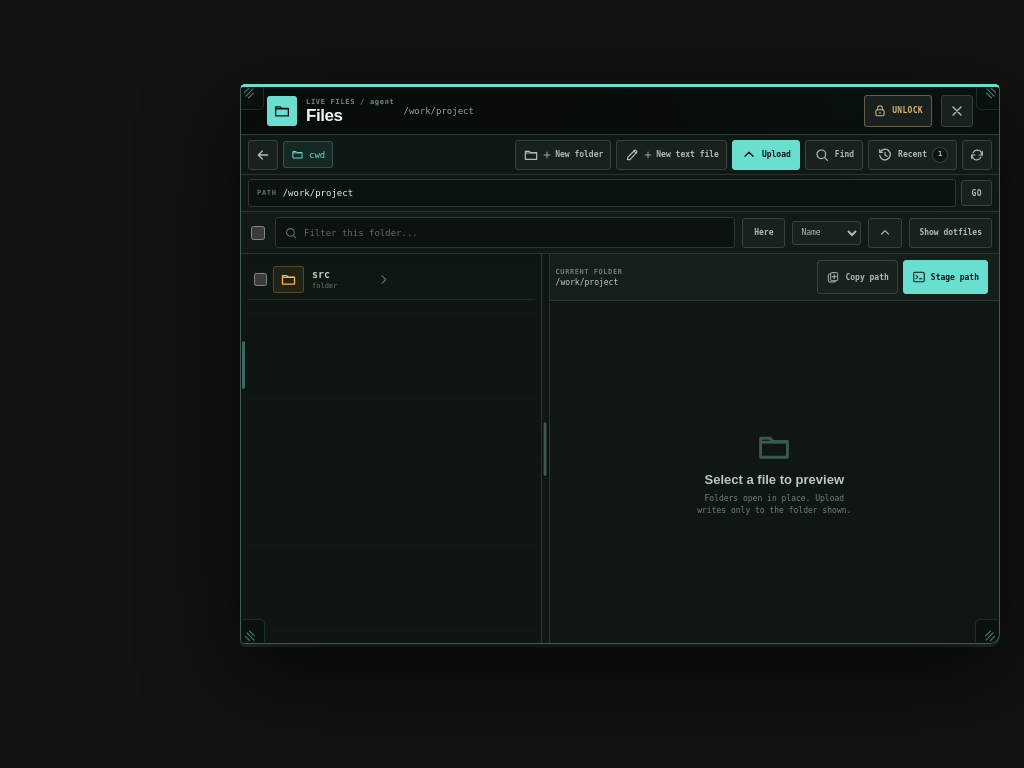
Scenario: SessionFilesPanel › filters descendants when nested folder search is enabled
The image size is (1024, 768).
Click the button "Folder src": [331, 280] box [273,266,390,293]
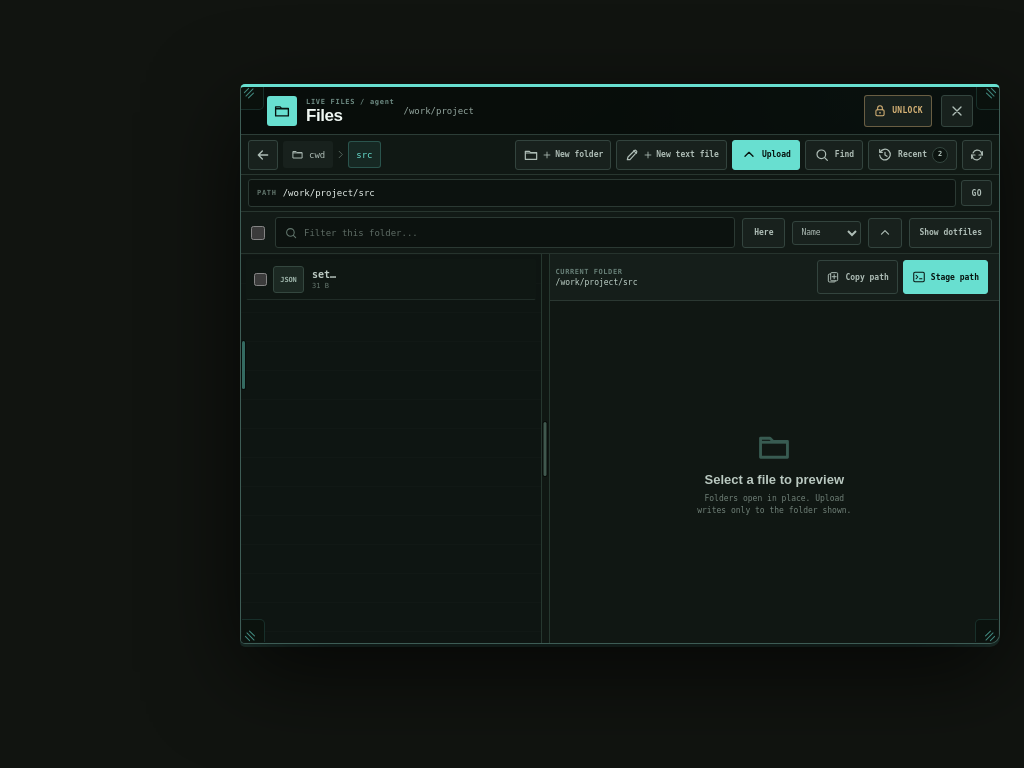
Click the button with aria-label "Search nested folders": [764, 232] box [742,218,785,248]
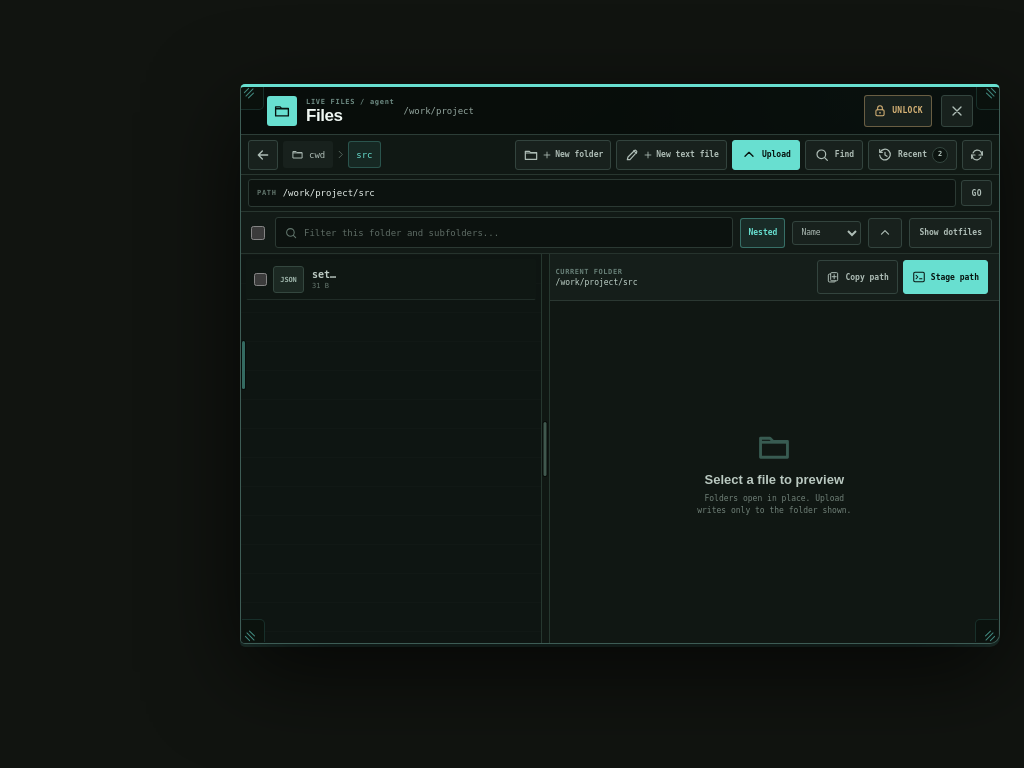
Check: the button with aria-label "Search nested folders" is pressed, box [740,218,785,248]
In the search field named "Filter files": [514, 232] box [304,218,724,247], type "settings"
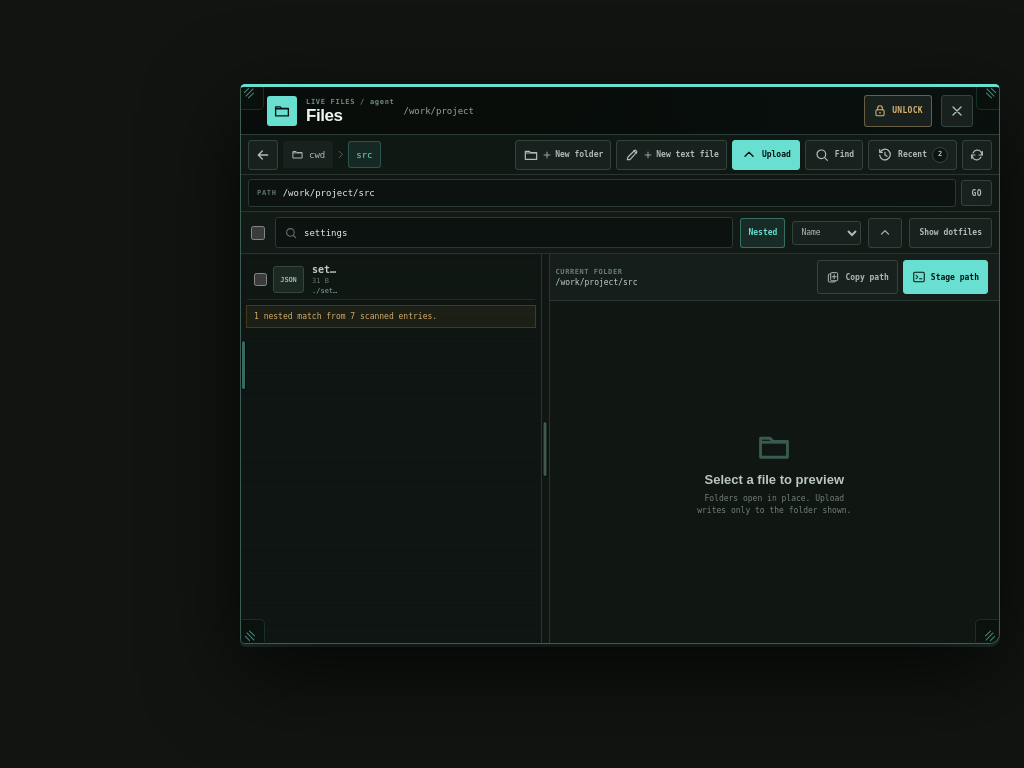
Check: the text "./settings.json" is shown, box [312,287,340,295]
Check: the dialog "FILES" shows "1 nested match from 7 scanned entries.", box [240,84,1000,644]
Click the button with aria-label "File settings.json": [306, 280] box [273,264,340,295]
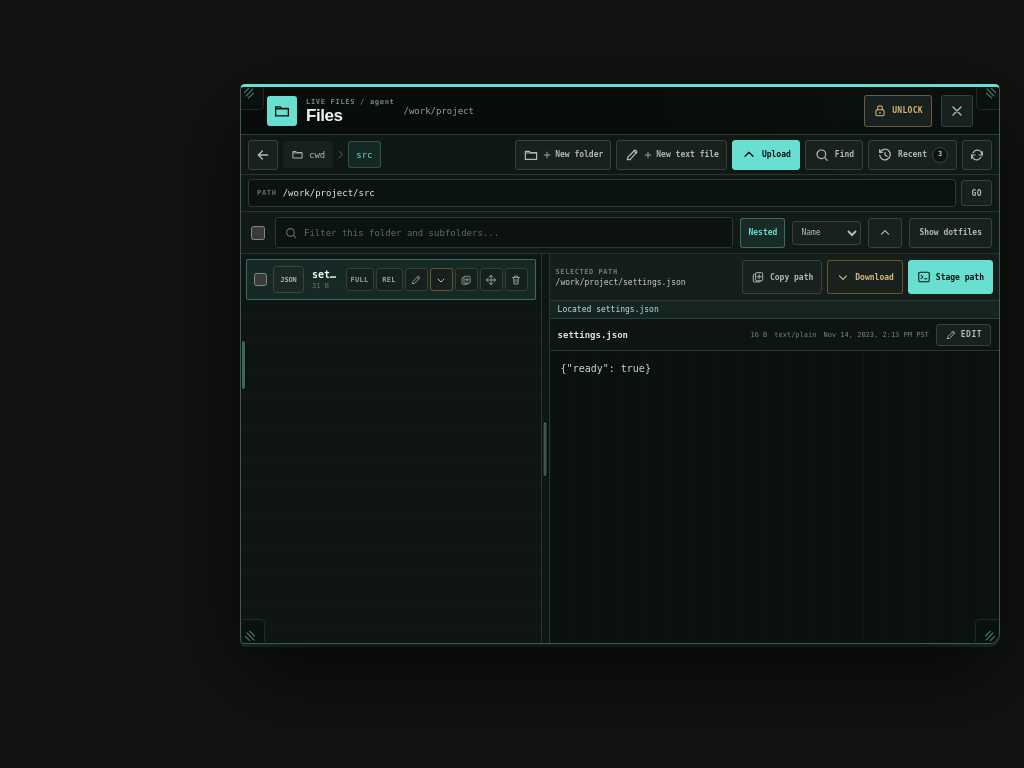
Check: the text "{\"ready\": true}" is shown, box [550,351,999,643]
